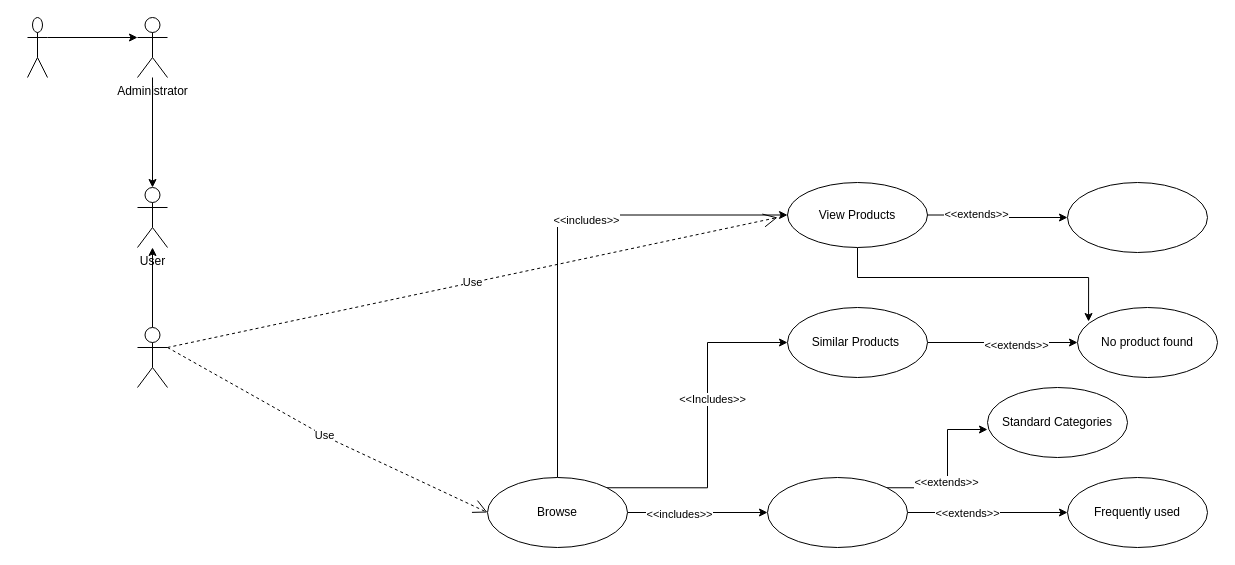
The diagram is 1235 pixels wide and 565 high, and some of its shapes have lost their labels. Each missing label, with the centre of its shape:
"by Categories" goes at point 837,512.
"Customer" goes at point 152,357.
"Manger" goes at point 37,47.
"view Detailed Product description" goes at point 1137,217.
